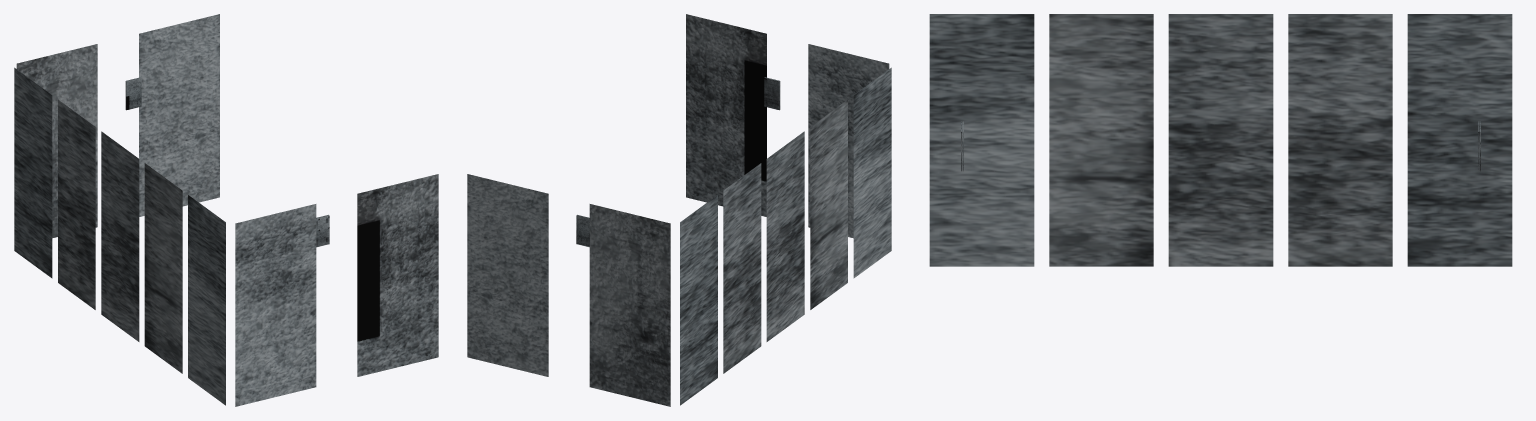
Rendered from minimalistic_modern_office_0.obj.
3 renders of one model, left to right at view 1: azimuth 30°, elevation 25°; view 2: azimuth 150°, elevation 25°; view 3: azimuth 270°, elevation 25°, orthographic. The views are drawn at different scales.
Bounding box in the file's own units: 4.83 × 4.05 × 8.75.
